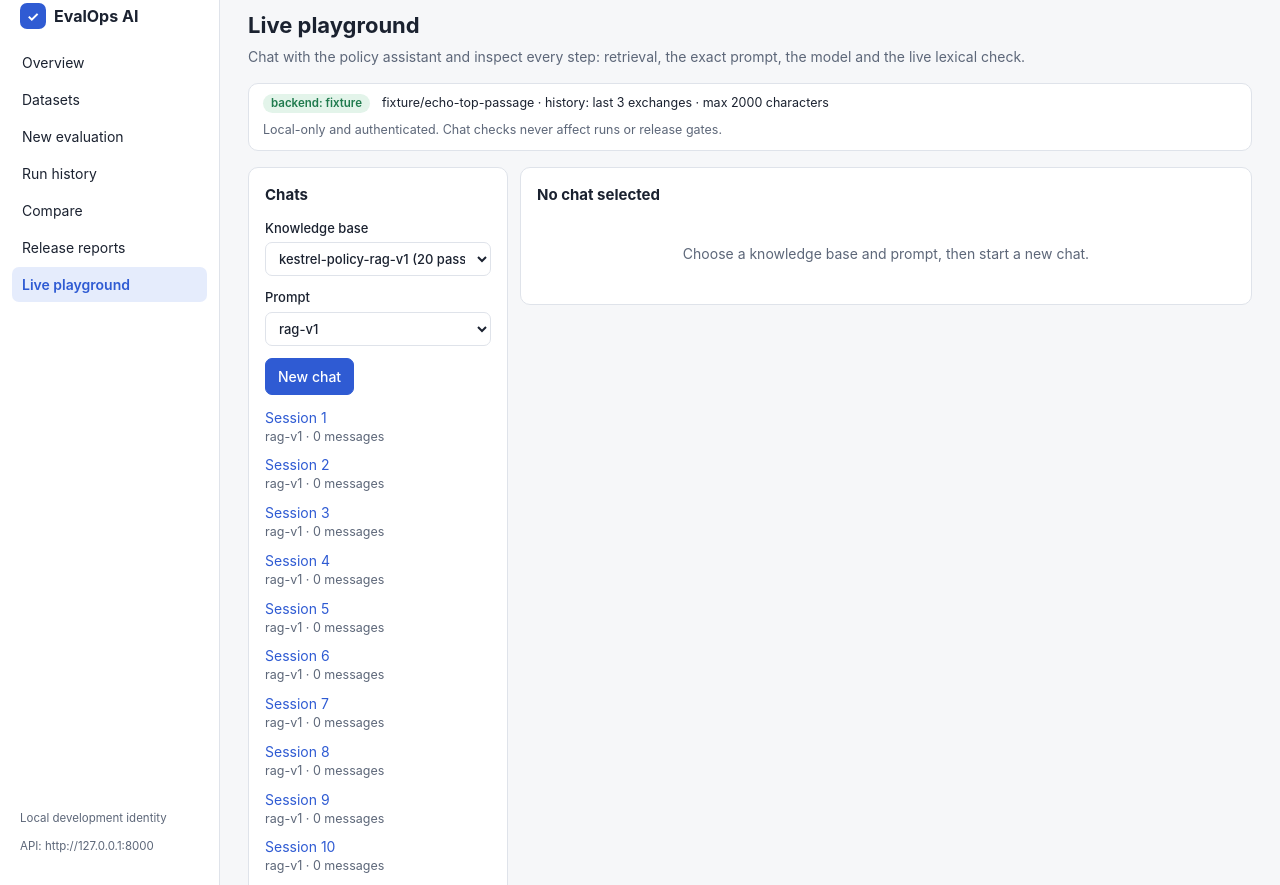
Live playground › pages chat sessions with bounded requests and preserves the active session
Click the button "Session 1" at (296, 417), box [265,406,327,428]
(page scrolled)
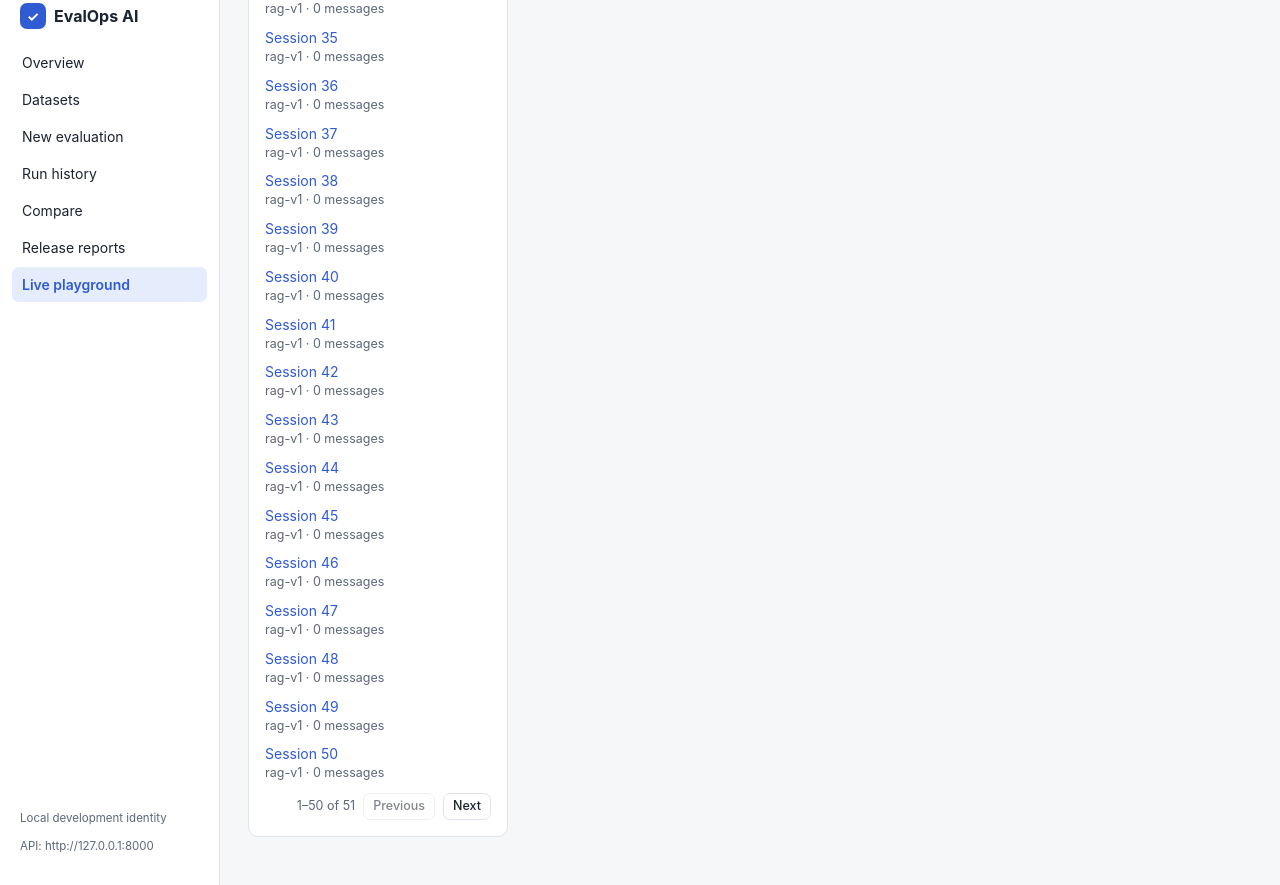
Expected: the text "1–50 of 51" is shown, [297,797,355,816]
Click the button with aria-label "Next page" at (467, 806), box [443,793,491,820]
(page scrolled)
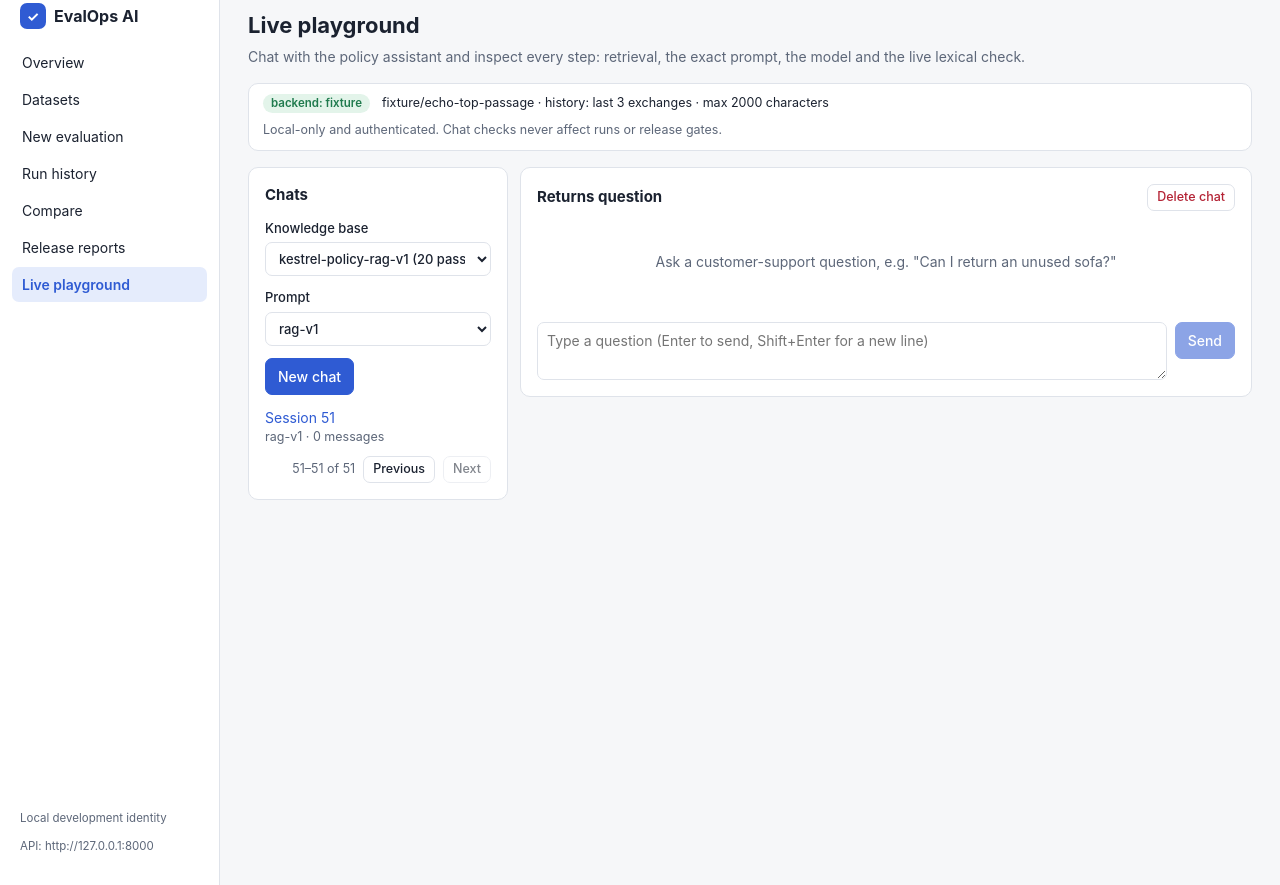
Expected: the heading "Returns question" is shown, [537,186,662,209]
Expected: the button "Session 51" is shown, [265,406,335,428]
Expected: the text "51–51 of 51" is shown, [292,460,355,479]
Click the button with aria-label "Previous page" at (399, 470), box [363,456,435,483]
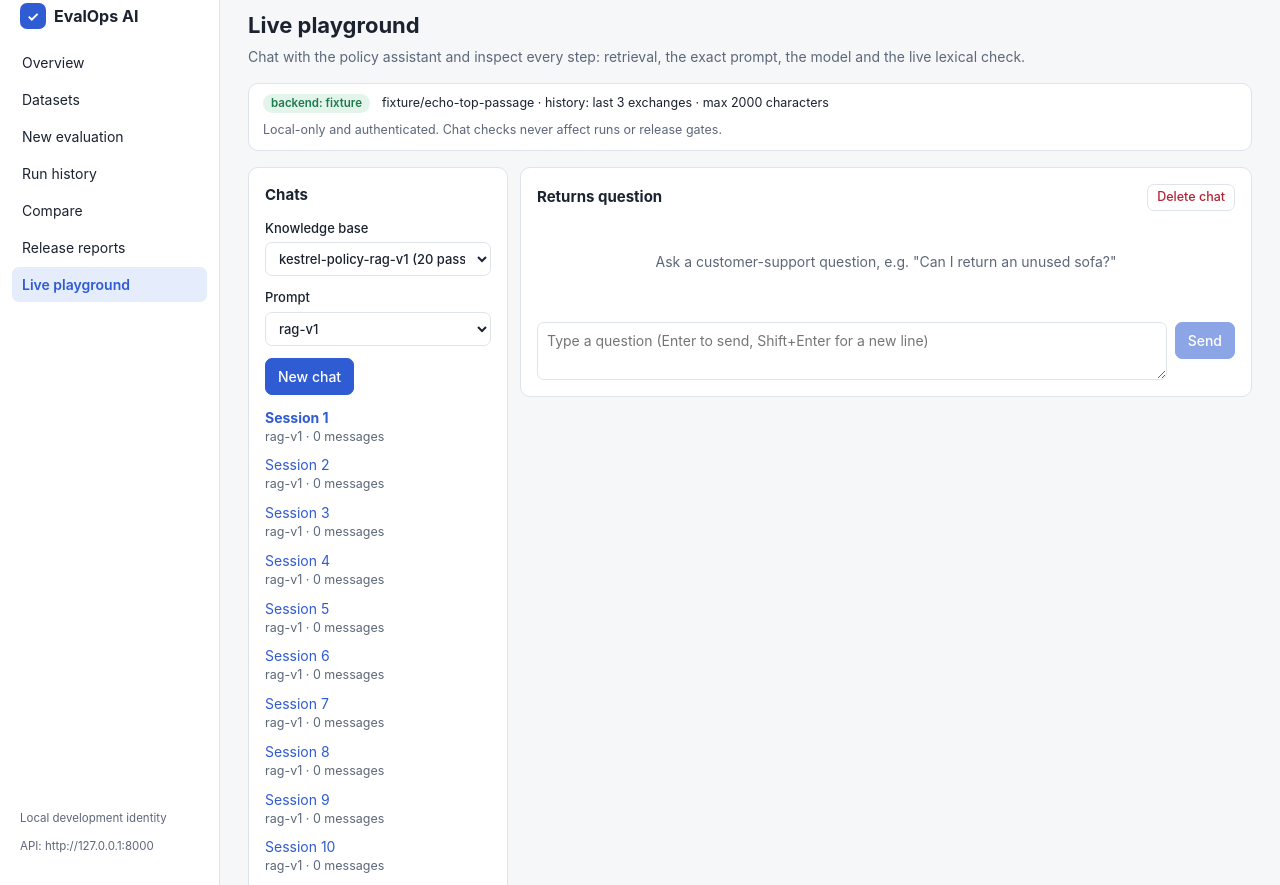
Expected: the button "Session 1" is shown, [265,406,329,428]
